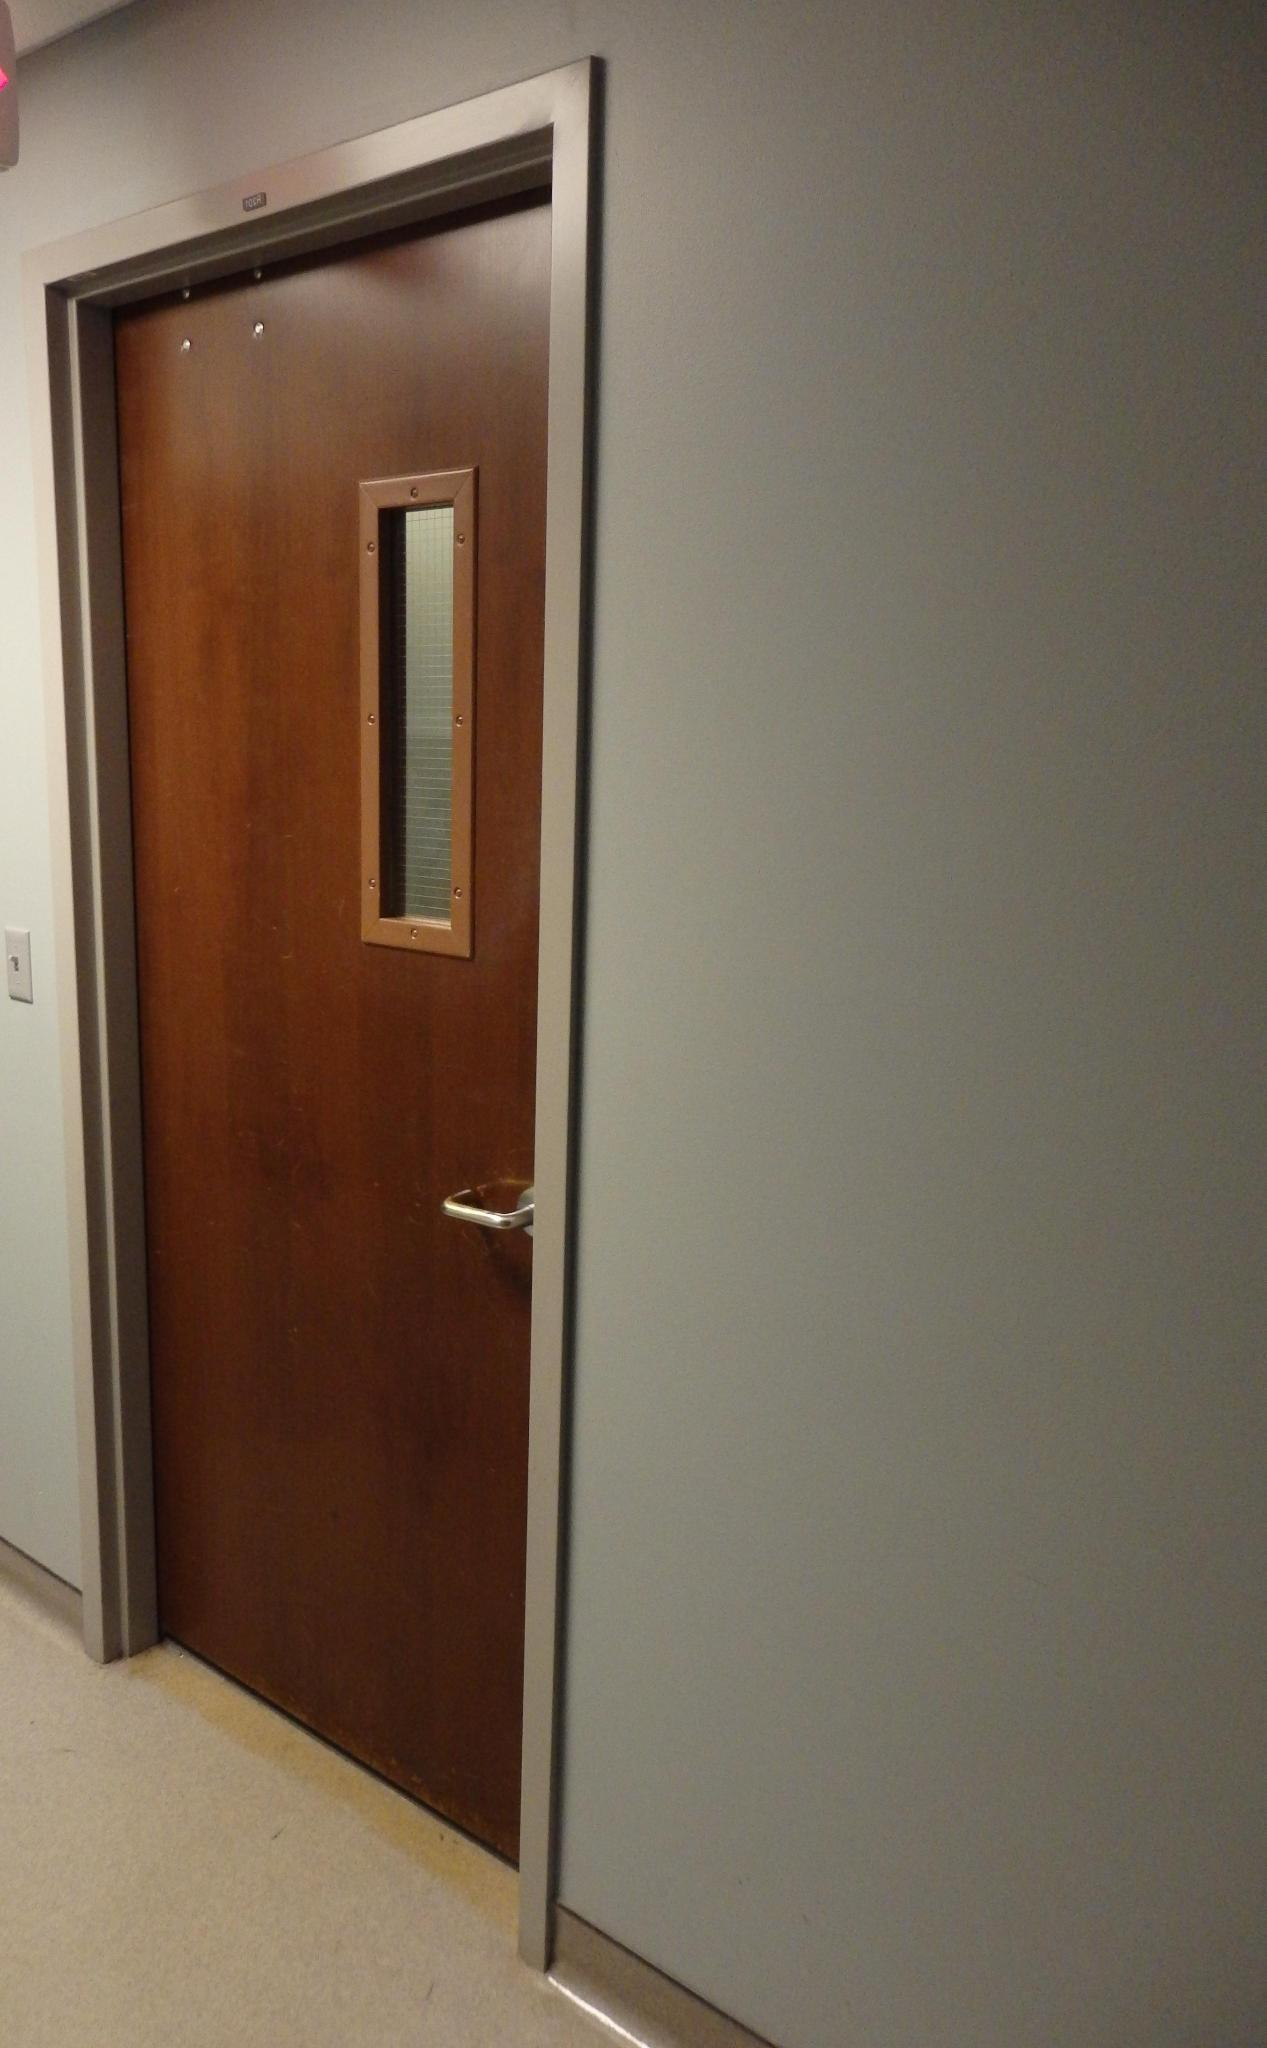door: (155, 224, 519, 1597)
handle: (432, 1151, 535, 1277)
